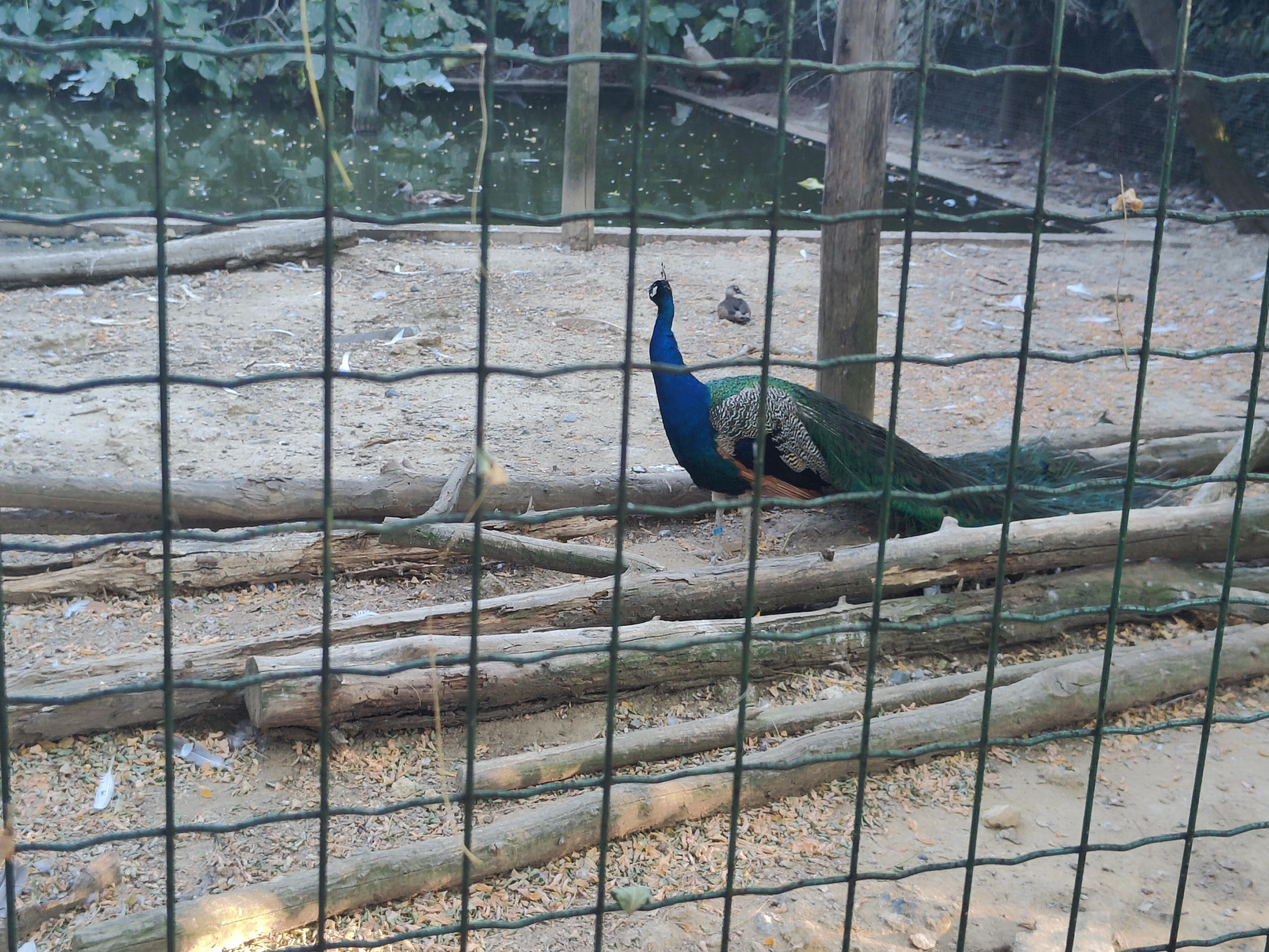apple: (648, 262, 1192, 564), (392, 179, 466, 205), (718, 285, 751, 325)
